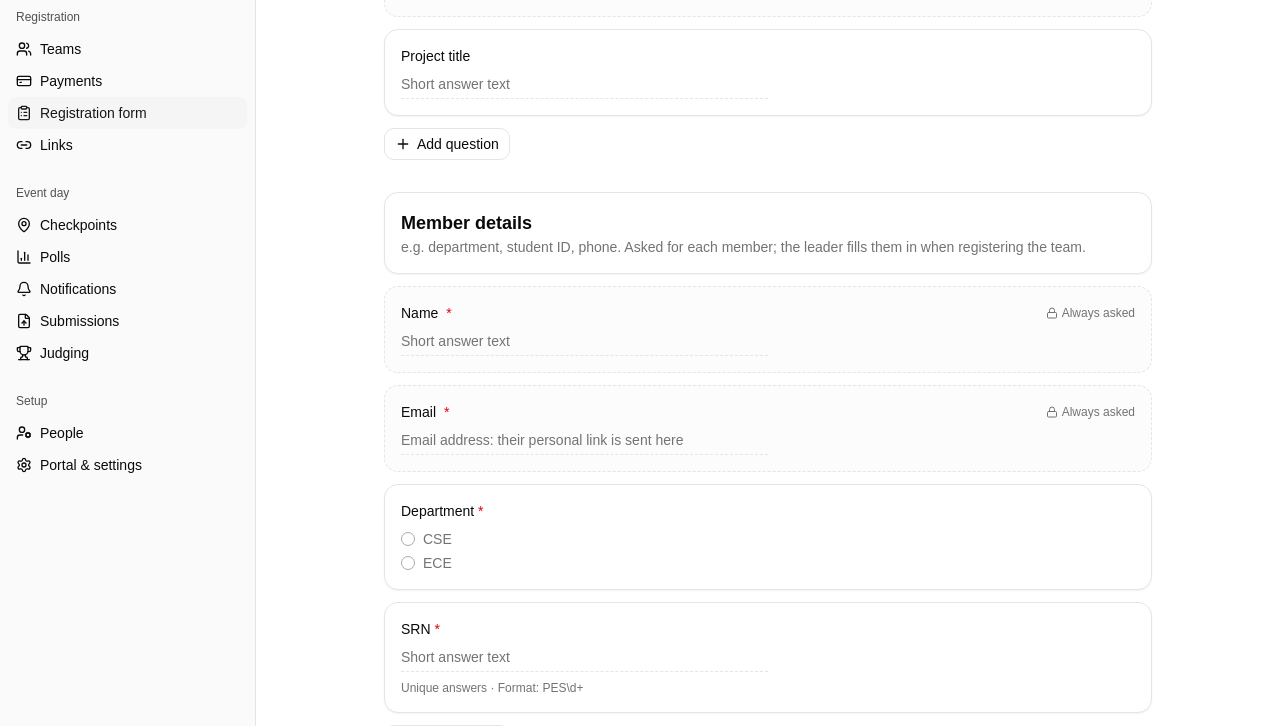
it: registration form builder › edits the description in place and the answer format from the menu
(page scrolled)
Step 1. Click the button named "Edit SRN" → (768, 658), box 384,602 -> 1152,713
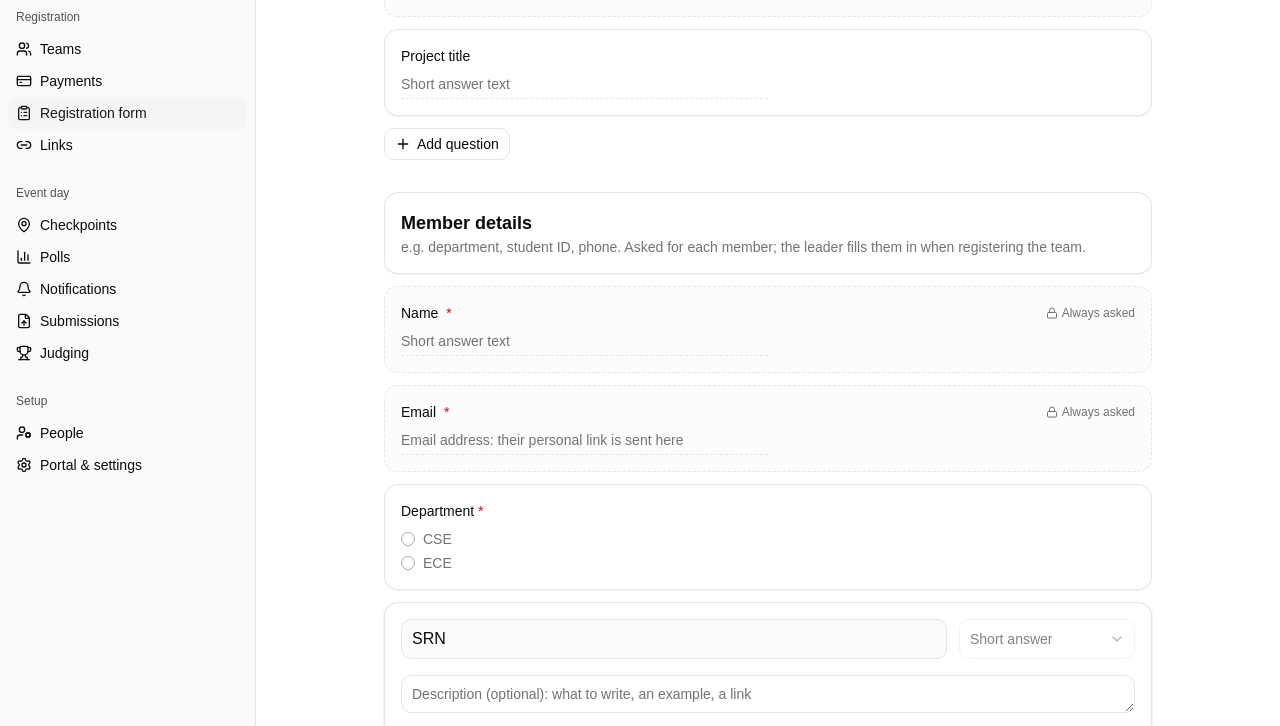
// The description box is always there, under the question.
Step 2. Type "From your ID card" into the text box labelled "Description" → (768, 694), box 401,675 -> 1135,713
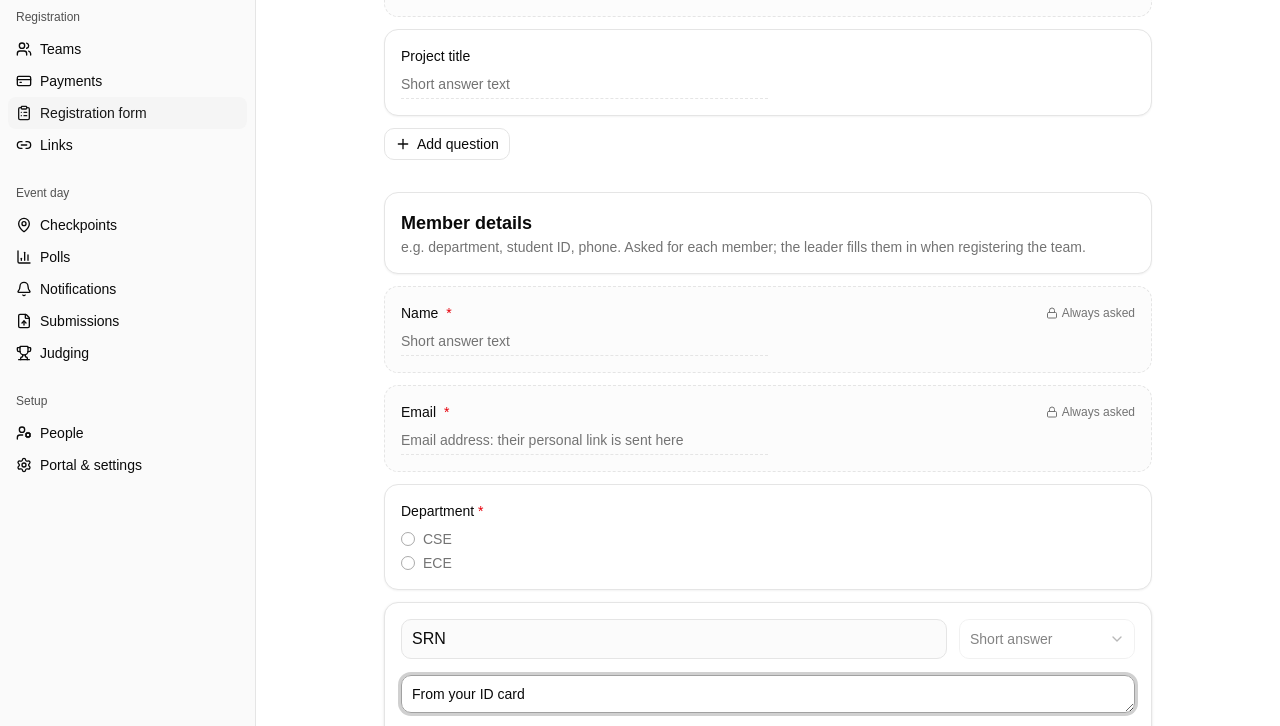
Step 3. Press Tab
(page scrolled)
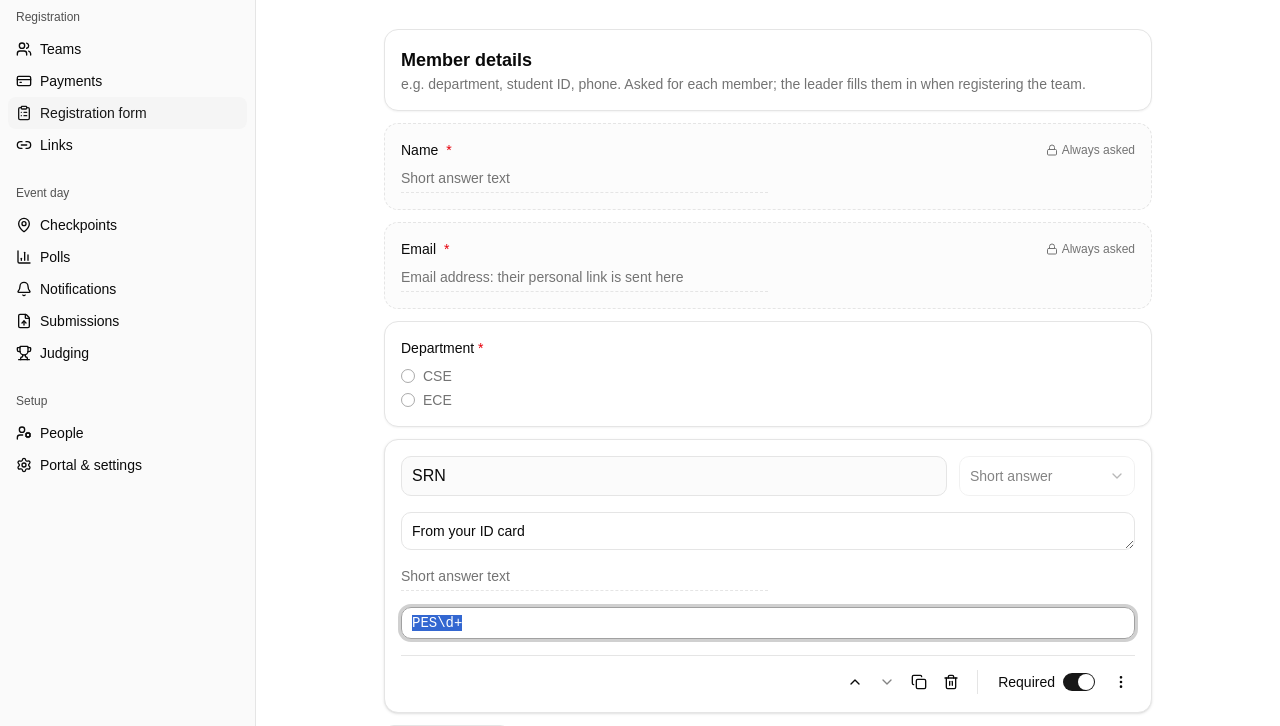
Step 4. Click the button named "More options" → (1121, 682), box 1107,668 -> 1135,696
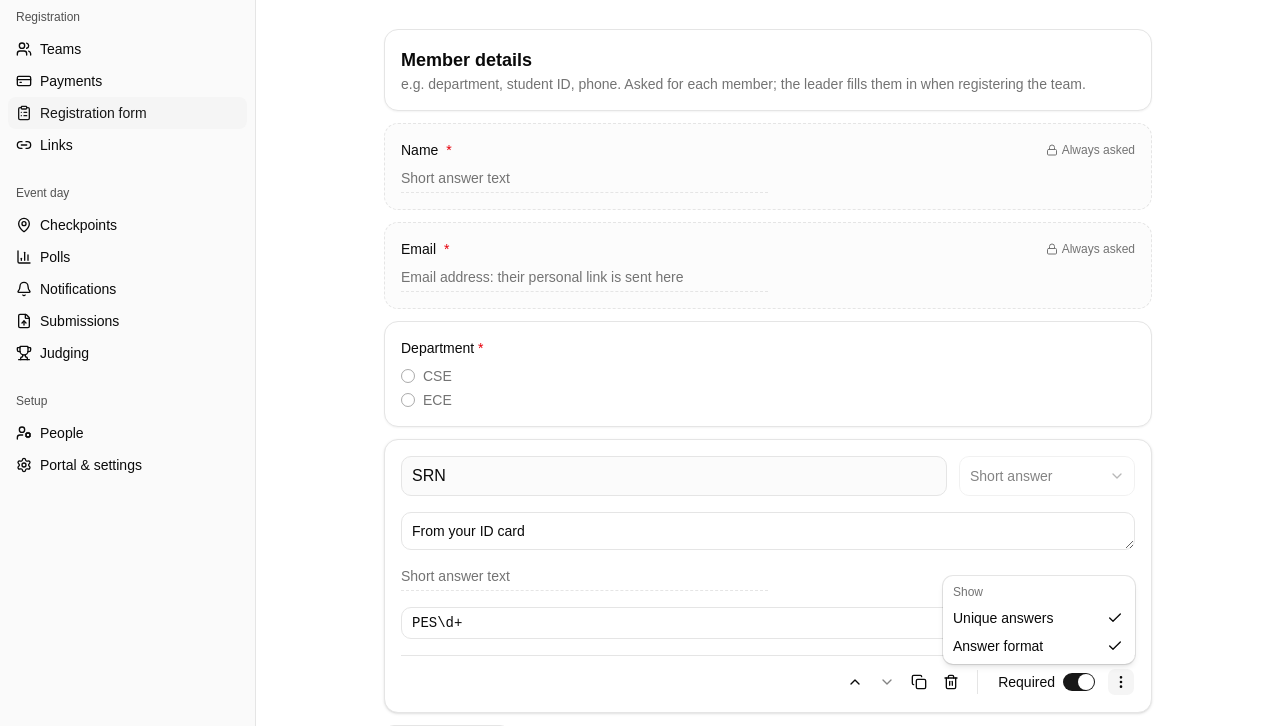
Step 5. Click the menu item "Answer format" → (1038, 646), box 953,638 -> 1123,654
(page scrolled)
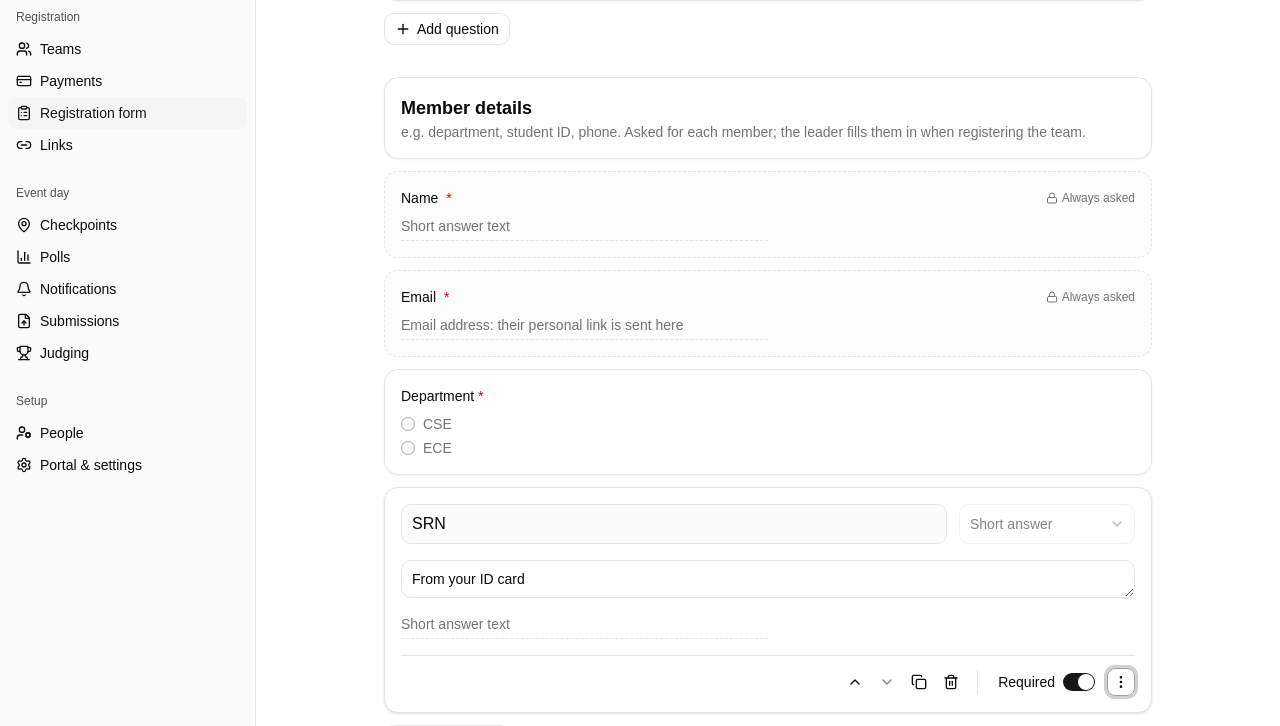
Check: the menu item labelled "Answer format" is gone
